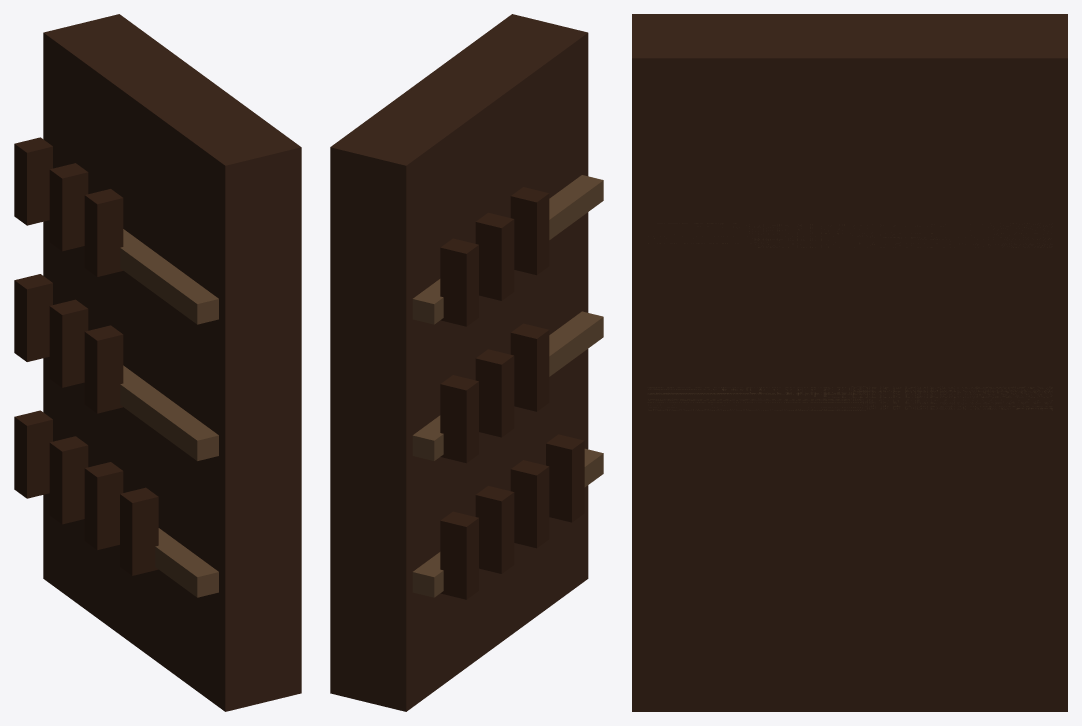
File: GalakasMidCity_INT_Wardrobe_Cabinet_01.obj
3 views of the same model, side by side, from view 1: azimuth 30°, elevation 25°; view 2: azimuth 150°, elevation 25°; view 3: azimuth 270°, elevation 25° (orthographic). The views are drawn at different scales.
Visible parts, largest first — view 1: case_body, shelf_2, shelf_1, book_7, book_8, book_9, book_4, book_5, book_3, book_6, book_0, book_2 (+2 smaller); view 2: case_body, shelf_1, shelf_2, book_0, book_1, book_2, book_3, book_4, book_6, book_7, book_5, book_8 (+2 smaller); view 3: case_body, shelf_1.
Boxes of the visible parts, x1,y1,x2,y2 form: case_body: (43,14,301,711); shelf_2: (120,229,218,324); shelf_1: (120,365,218,460); book_7: (84,325,123,413); book_8: (84,189,123,276); book_9: (120,487,158,575); book_4: (49,299,88,387); book_5: (49,163,88,251); book_3: (49,436,88,524); book_6: (84,462,123,549); book_0: (14,410,52,498); book_2: (14,137,52,225); case_body: (330,14,588,711); shelf_1: (412,311,603,460); shelf_2: (412,175,603,324); book_0: (440,511,478,599); book_1: (440,375,478,463); book_2: (440,238,478,326); book_3: (475,486,514,573); book_4: (475,349,514,437); book_6: (510,460,549,548); book_7: (510,323,549,411); book_5: (475,212,514,300); book_8: (510,187,549,275); case_body: (632,14,1067,711); shelf_1: (648,386,1052,410).
Bounding box in the file's own units: 0.555 × 2.4 × 1.45.
